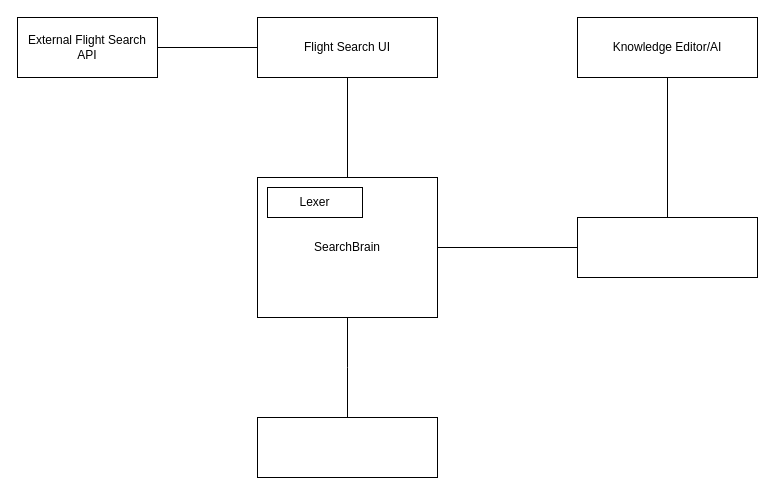
Some shapes in this 775 by 495 pixel diagram are drawn without their labels. The box of each missing label's shape, as (x1, y1, x2, y2) in pixels:
Aviation DataBank: (256, 416, 438, 478)
Knowledge DataStore: (576, 216, 758, 278)
